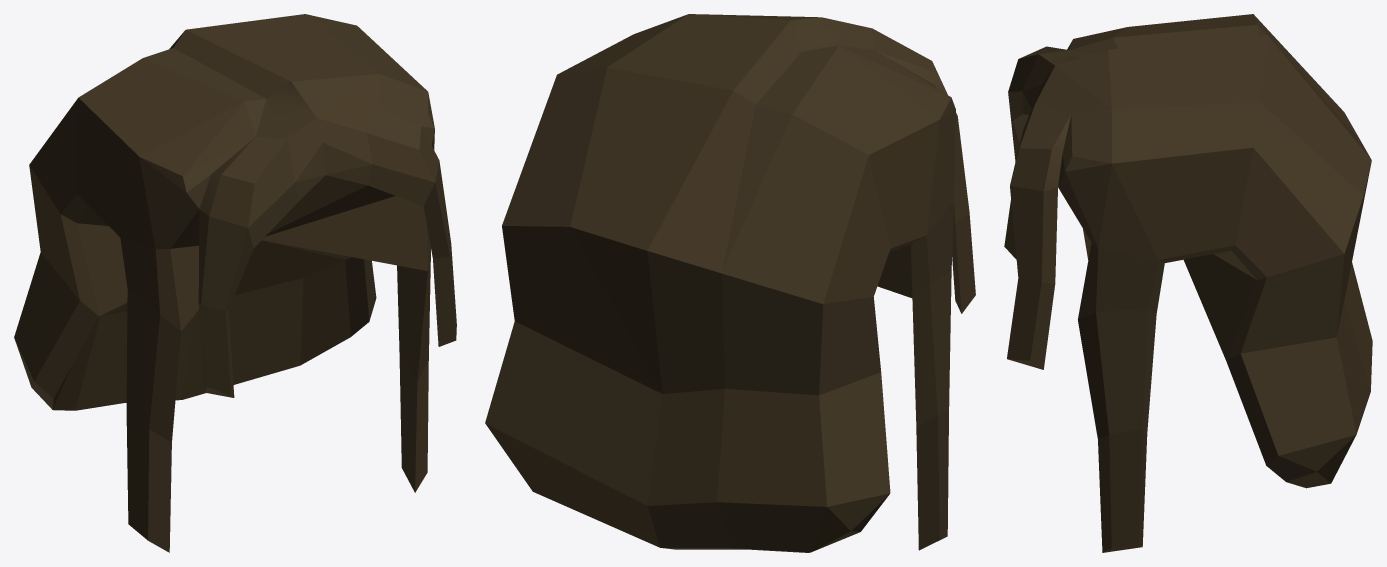
File: Chr_Hair_21_Static.fbx
3 views of the same model, side by side, from view 1: azimuth 30°, elevation 25°; view 2: azimuth 150°, elevation 25°; view 3: azimuth 270°, elevation 25° (orthographic). The views are drawn at different scales.
Parts seen in each view (by area): view 1: Chr_Hair_21_Static; view 2: Chr_Hair_21_Static; view 3: Chr_Hair_21_Static.
Boxes of the visible parts, left/top/right/bottom form: Chr_Hair_21_Static: left=14, top=14, right=456, bottom=552; Chr_Hair_21_Static: left=485, top=14, right=975, bottom=552; Chr_Hair_21_Static: left=1004, top=14, right=1372, bottom=552.
Bounding box in the file's own units: 0.2813 × 0.3457 × 0.2594.
